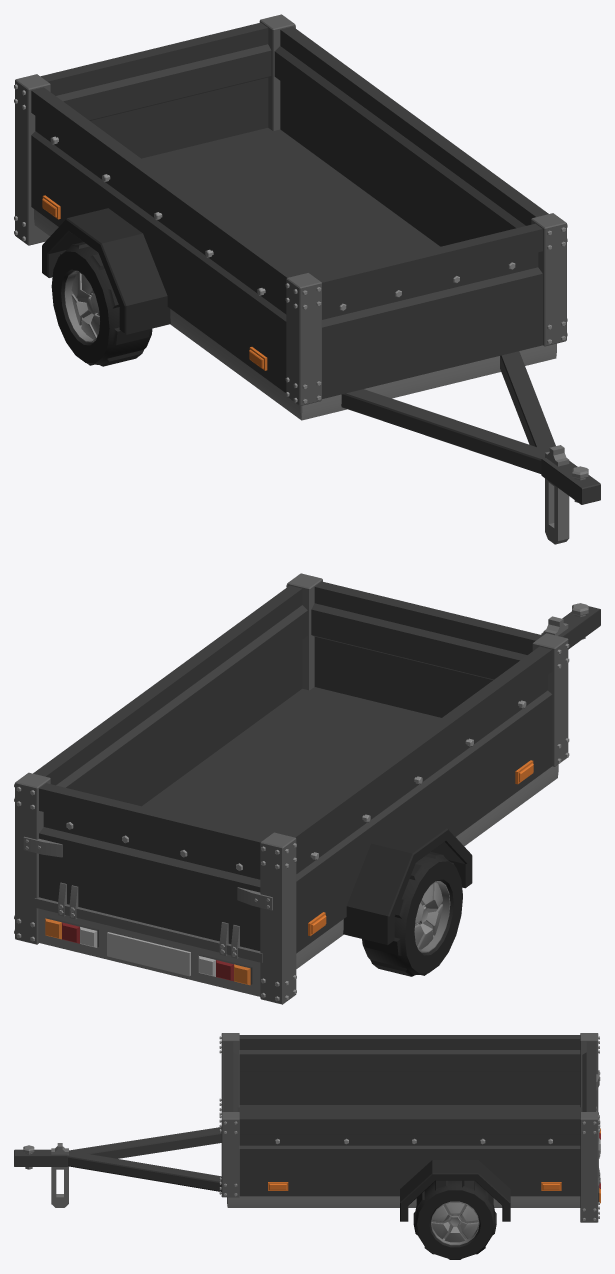
The model's file is car_13.glb.
3 views of the same model, one above another, from view 1: azimuth 30°, elevation 25°; view 2: azimuth 150°, elevation 25°; view 3: azimuth 270°, elevation 25° (orthographic). The views are drawn at different scales.
Parts seen in each view (by area): view 1: car_13; view 2: car_13; view 3: car_13.
Part boxes in pixels (x1,y1,x2,y2): car_13: (14,14,600,544); car_13: (14,573,600,1004); car_13: (14,1033,600,1259).
Size of the model in its own units: 2.91 by 1.55 by 6.35.
Materials: 1 (1 with a texture image).
